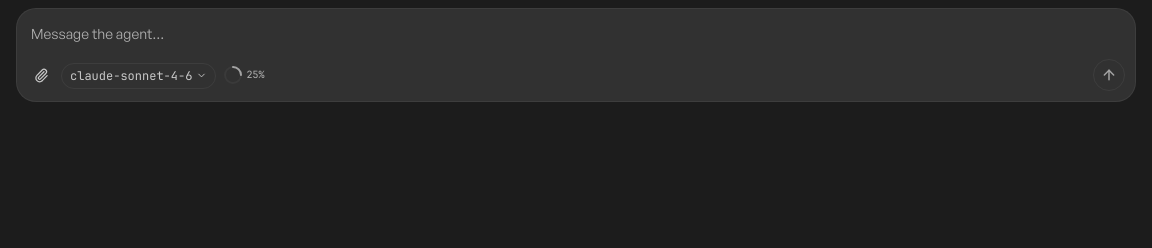
Scenario: Composer › reports the model dropdown's open state to assistive tech
Click the button named "claude-sonnet-4-6": [139, 76] box 61,62 -> 216,88
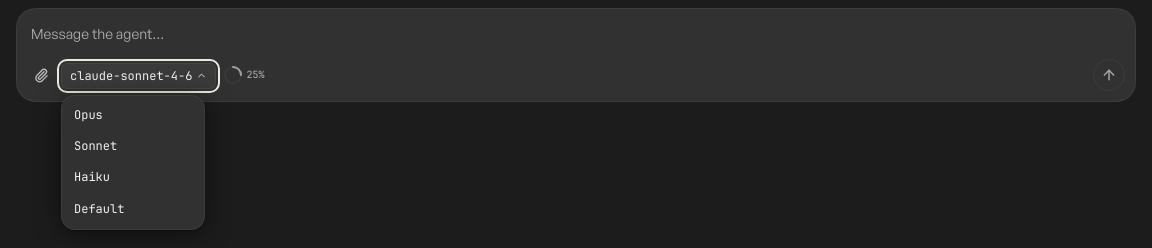
Check: the button named "claude-sonnet-4-6" is expanded, box 61,62 -> 216,88
